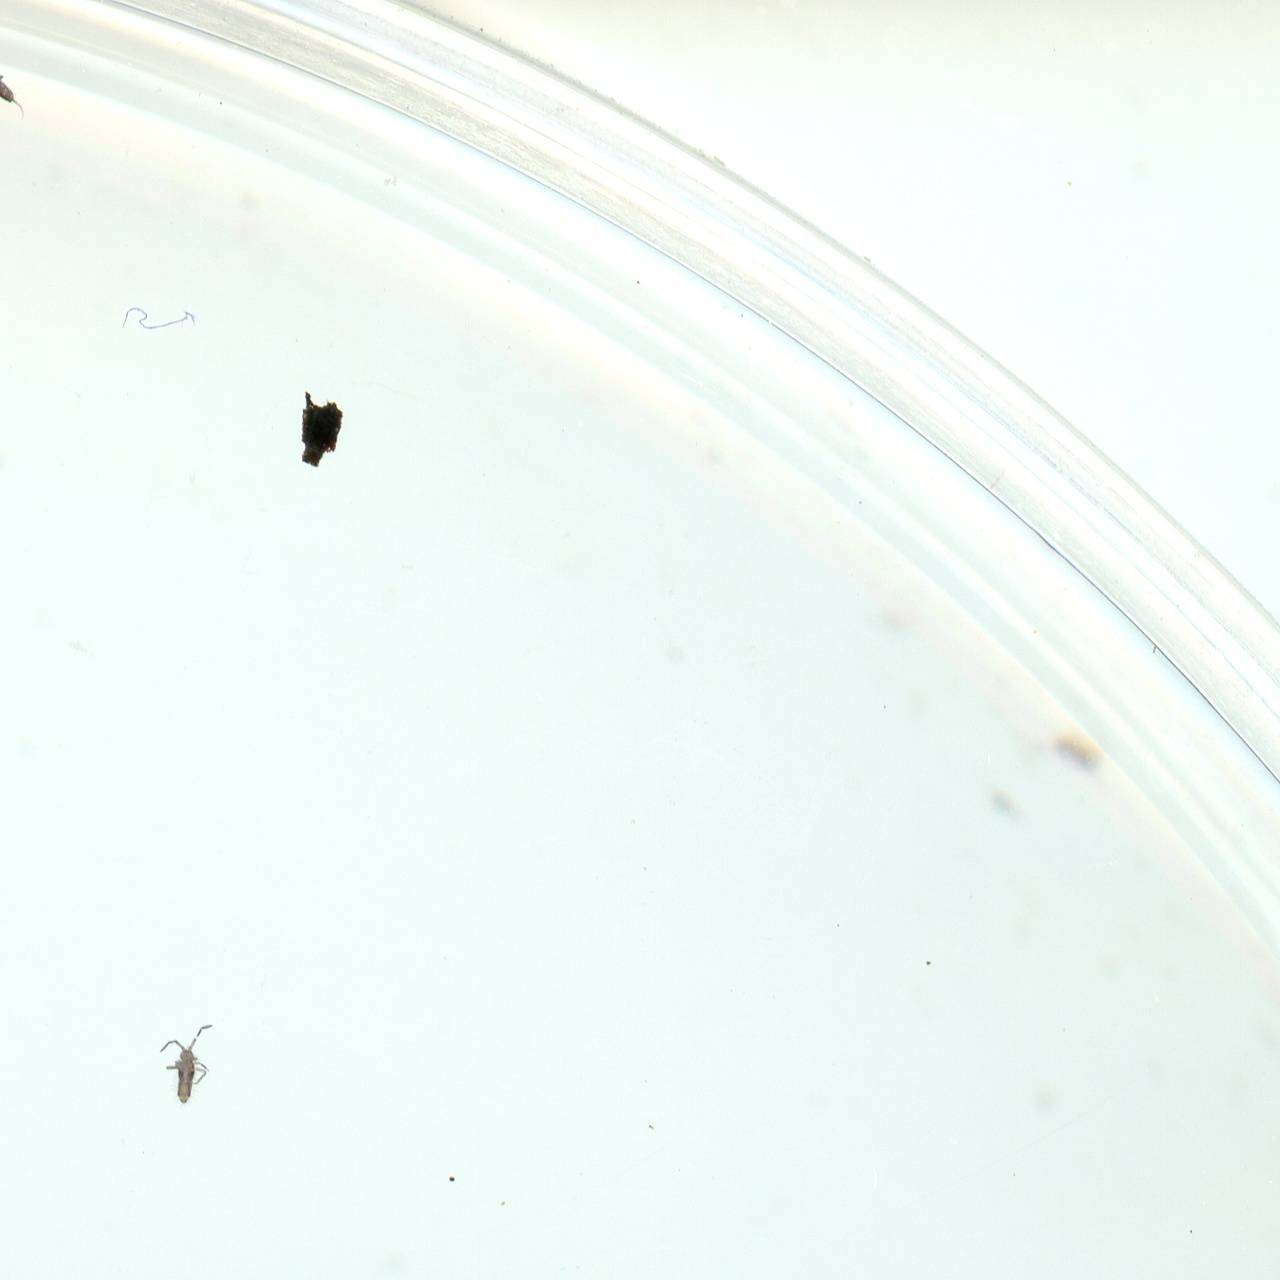arthropod: (151, 1009, 225, 1115), (0, 28, 48, 150)
